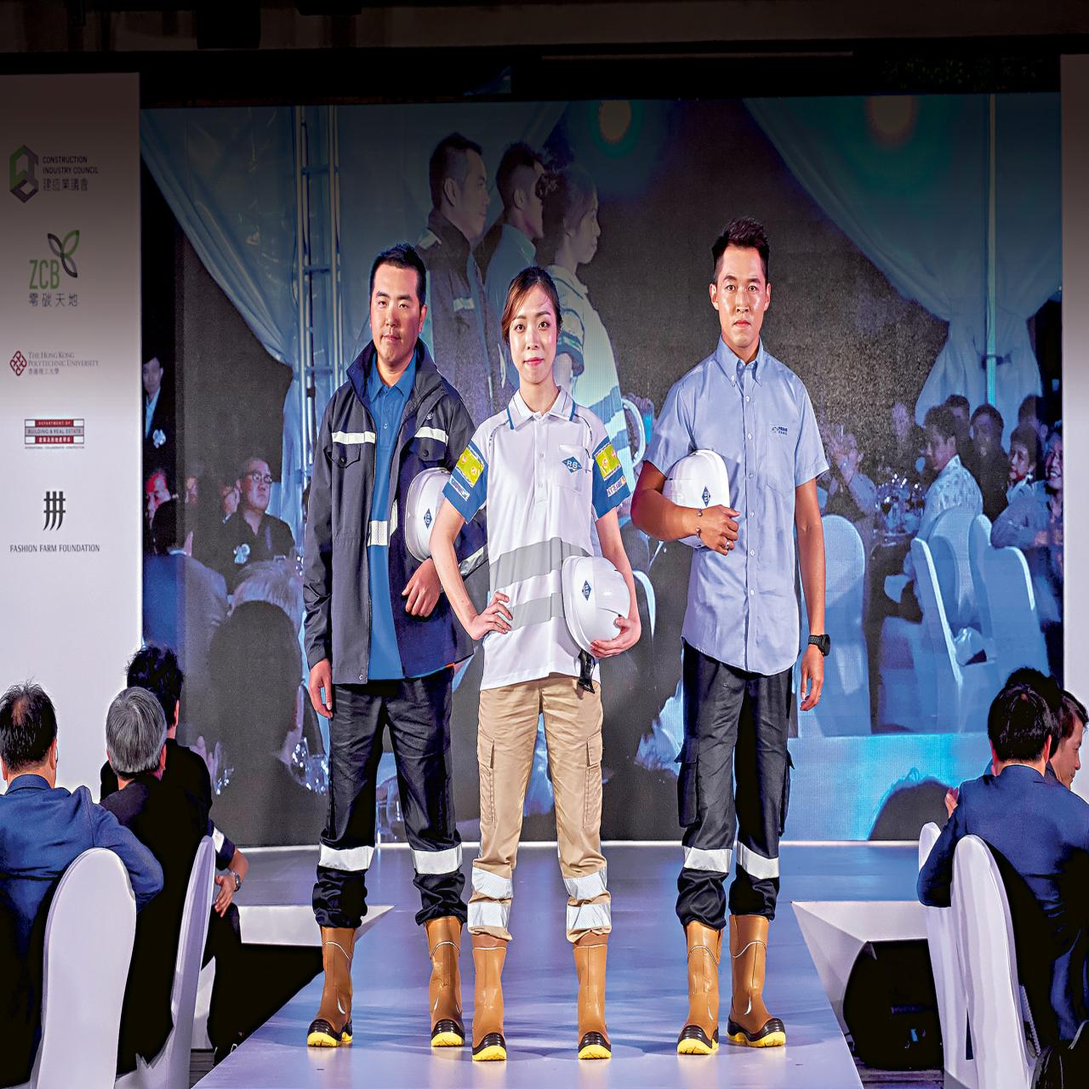NO_Safety_Vest: (466, 413, 621, 690), (317, 359, 460, 649), (676, 357, 813, 649), (968, 779, 1079, 1036), (103, 786, 204, 1003), (0, 798, 90, 1005)
Person: (624, 198, 844, 1067), (425, 245, 647, 1076), (298, 217, 481, 1078), (0, 649, 171, 1088), (922, 665, 1089, 1089), (74, 668, 215, 1046), (97, 642, 215, 822), (1026, 657, 1089, 858)
